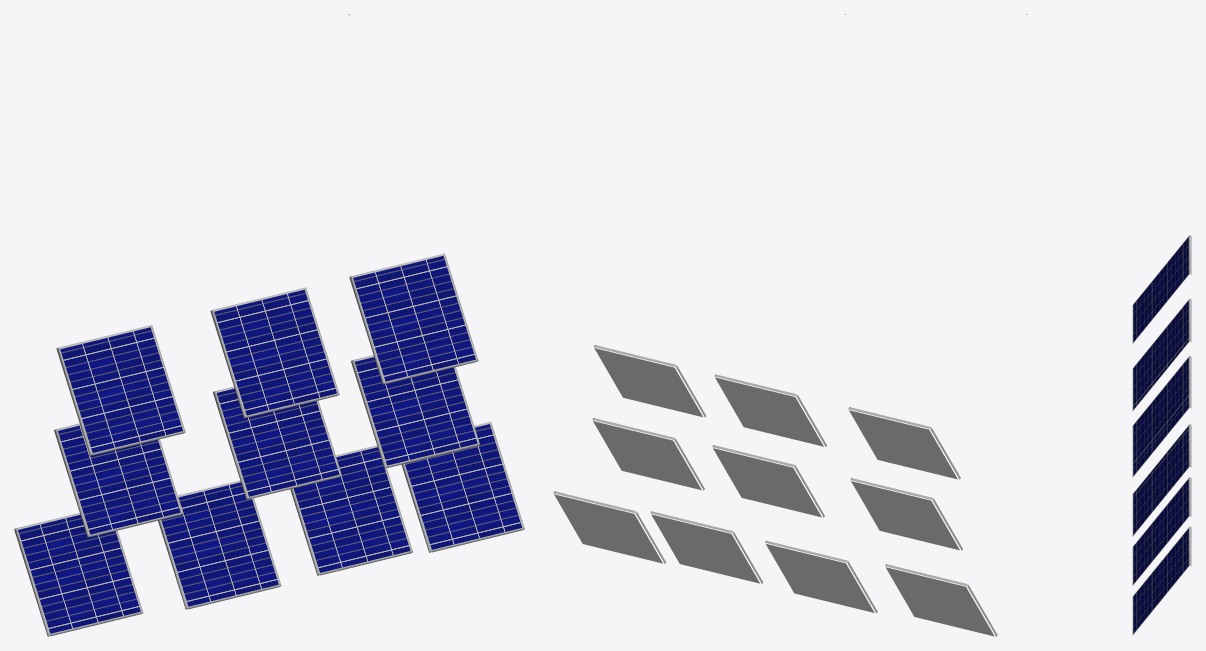
File: moon-menu.glb
3 views of the same model, side by side, from view 1: azimuth 30°, elevation 25°; view 2: azimuth 150°, elevation 25°; view 3: azimuth 270°, elevation 25° (orthographic). The views are drawn at different scales.
Visible parts, largest first — view 1: Acrimsat_vFINAL [Layer2].005, Acrimsat_vFINAL [Layer2].001, Acrimsat_vFINAL [Layer2].006, Acrimsat_vFINAL [Layer2].011, Acrimsat_vFINAL [Layer2].012, Acrimsat_vFINAL [Layer2].010, Acrimsat_vFINAL [Layer2].013, Acrimsat_vFINAL [Layer2].007, Acrimsat_vFINAL [Layer2].009, Acrimsat_vFINAL [Layer2].008, Acrimsat_vFINAL [Layer8].006, Acrimsat_vFINAL [Layer8].001 (+8 smaller); view 2: Acrimsat_vFINAL [Layer8].005, Acrimsat_vFINAL [Layer8].010, Acrimsat_vFINAL [Layer8].006, Acrimsat_vFINAL [Layer8].009, Acrimsat_vFINAL [Layer8].011, Acrimsat_vFINAL [Layer8].007, Acrimsat_vFINAL [Layer8].008, Acrimsat_vFINAL [Layer8].012, Acrimsat_vFINAL [Layer8].013, Acrimsat_vFINAL [Layer8].001; view 3: Acrimsat_vFINAL [Layer2].001, Acrimsat_vFINAL [Layer2].007, Acrimsat_vFINAL [Layer2].010, Acrimsat_vFINAL [Layer2].013, Acrimsat_vFINAL [Layer2].006, Acrimsat_vFINAL [Layer2].005, Acrimsat_vFINAL [Layer2].008, Acrimsat_vFINAL [Layer8].001, Acrimsat_vFINAL [Layer8].013, Acrimsat_vFINAL [Layer8].005, Acrimsat_vFINAL [Layer8].006, Acrimsat_vFINAL [Layer8].007 (+1 smaller).
Boxes of the visible parts, x1,y1,x2,y2 form: Acrimsat_vFINAL [Layer2].005: (214, 289, 336, 415); Acrimsat_vFINAL [Layer2].001: (353, 256, 475, 381); Acrimsat_vFINAL [Layer2].006: (60, 327, 182, 452); Acrimsat_vFINAL [Layer2].011: (161, 482, 278, 606); Acrimsat_vFINAL [Layer2].012: (18, 515, 140, 633); Acrimsat_vFINAL [Layer2].010: (293, 447, 410, 572); Acrimsat_vFINAL [Layer2].013: (405, 424, 522, 549); Acrimsat_vFINAL [Layer2].007: (355, 357, 477, 465); Acrimsat_vFINAL [Layer2].009: (58, 425, 180, 534); Acrimsat_vFINAL [Layer2].008: (216, 388, 339, 496); Acrimsat_vFINAL [Layer8].006: (56, 325, 185, 455); Acrimsat_vFINAL [Layer8].001: (349, 253, 478, 384); Acrimsat_vFINAL [Layer8].005: (714, 374, 826, 446); Acrimsat_vFINAL [Layer8].010: (651, 511, 762, 583); Acrimsat_vFINAL [Layer8].006: (848, 407, 960, 479); Acrimsat_vFINAL [Layer8].009: (850, 478, 962, 550); Acrimsat_vFINAL [Layer8].011: (765, 540, 877, 612); Acrimsat_vFINAL [Layer8].007: (592, 418, 704, 490); Acrimsat_vFINAL [Layer8].008: (712, 445, 824, 517); Acrimsat_vFINAL [Layer8].012: (885, 564, 997, 636); Acrimsat_vFINAL [Layer8].013: (553, 491, 665, 563); Acrimsat_vFINAL [Layer8].001: (594, 345, 705, 417); Acrimsat_vFINAL [Layer2].001: (1133, 358, 1188, 462); Acrimsat_vFINAL [Layer2].007: (1133, 430, 1188, 534); Acrimsat_vFINAL [Layer2].010: (1133, 479, 1188, 583); Acrimsat_vFINAL [Layer2].013: (1133, 529, 1188, 632); Acrimsat_vFINAL [Layer2].006: (1133, 237, 1188, 341); Acrimsat_vFINAL [Layer2].005: (1133, 301, 1188, 404); Acrimsat_vFINAL [Layer2].008: (1133, 396, 1188, 474); Acrimsat_vFINAL [Layer8].001: (1132, 356, 1191, 464); Acrimsat_vFINAL [Layer8].013: (1132, 526, 1191, 634); Acrimsat_vFINAL [Layer8].005: (1132, 298, 1191, 406); Acrimsat_vFINAL [Layer8].006: (1132, 235, 1191, 343); Acrimsat_vFINAL [Layer8].007: (1132, 428, 1191, 536).
Size of the model in its own units: 4417 by 5507 by 1575.
6 materials, 3 textured.
